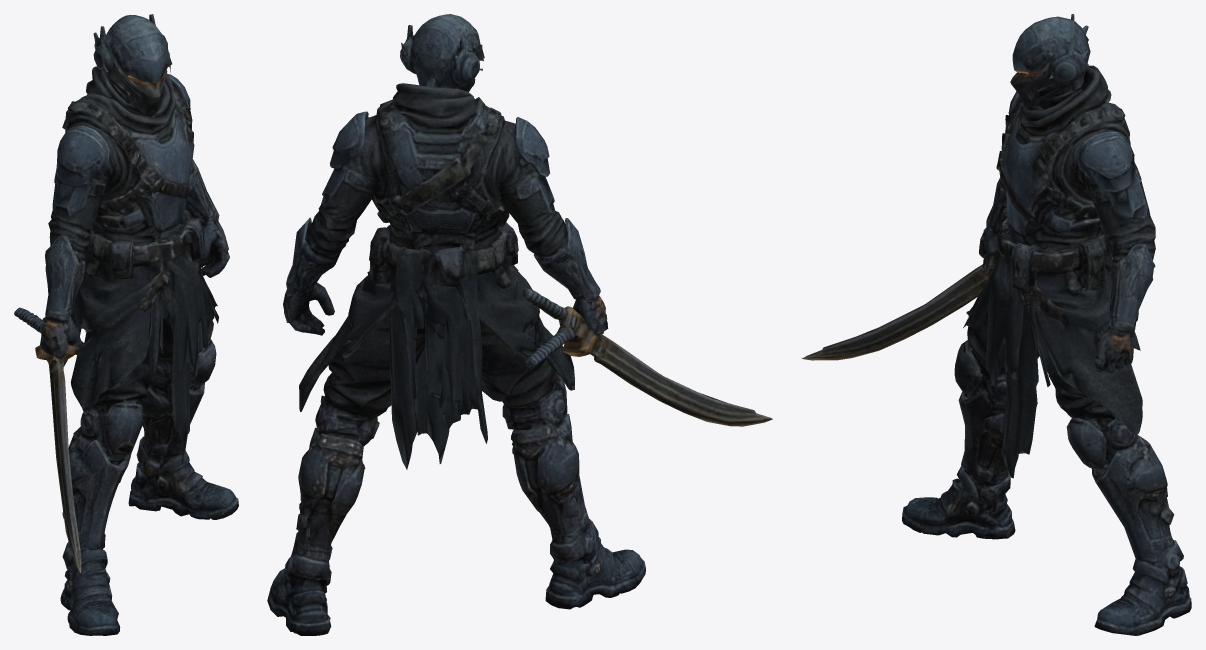
The model's file is ronin.glb.
3 renders of one model, left to right at view 1: azimuth 30°, elevation 25°; view 2: azimuth 150°, elevation 25°; view 3: azimuth 270°, elevation 25°, orthographic. The views are drawn at different scales.
Visible parts, largest first — view 1: world; view 2: world; view 3: world.
Boxes of the visible parts, x1,y1,x2,y2 form: world: (14,14,238,635); world: (267,14,772,635); world: (801,14,1191,635).
Size of the model in its own units: 0.5955 by 1 by 0.6365.
1 material, 1 textured.
